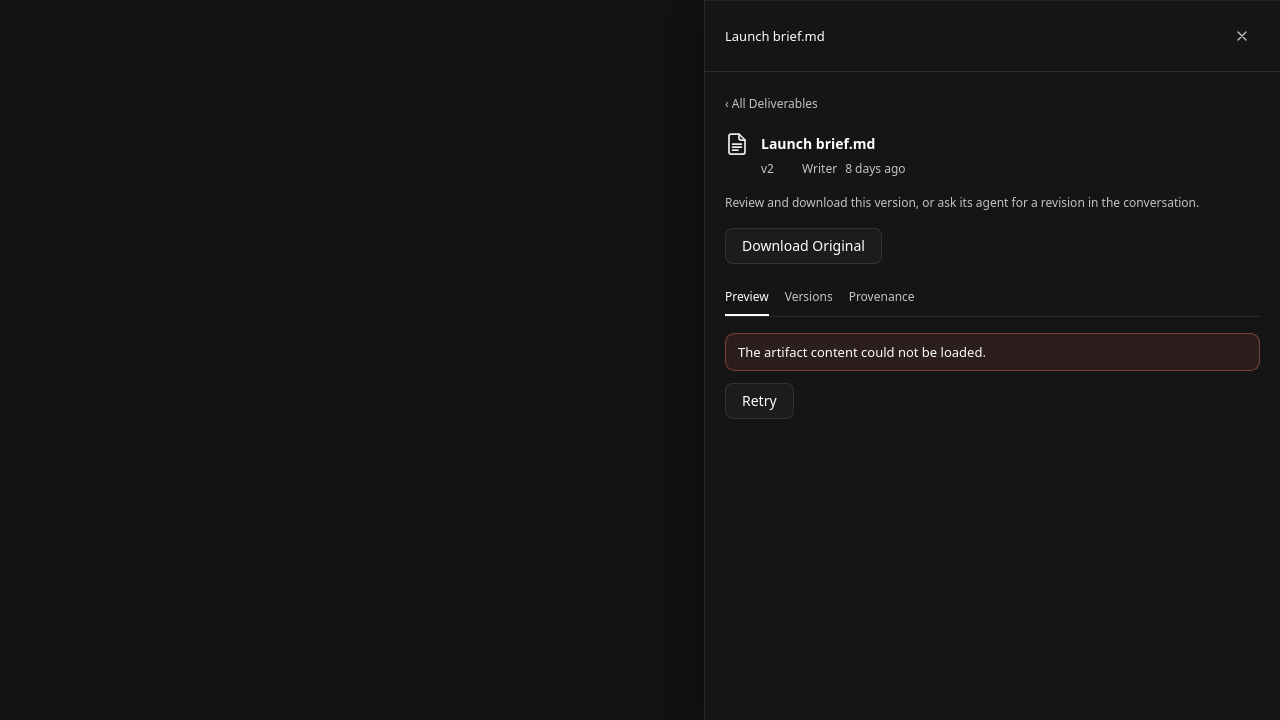
Scenario: a failed artifact preview can retry its actual content without changing the selected immutable version
Step 1. Click the button "Retry" → (759, 401), box [725, 383, 794, 419]
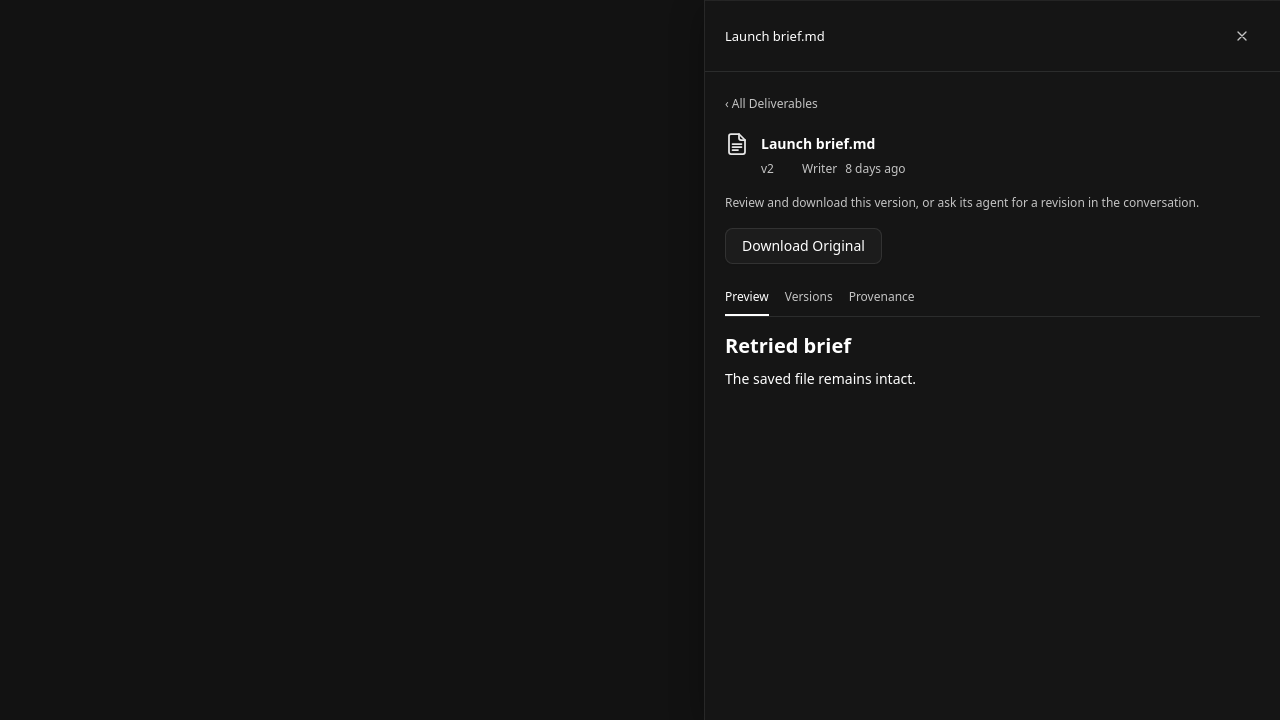
Expected: the heading "Retried brief" is shown, [725, 332, 851, 359]
